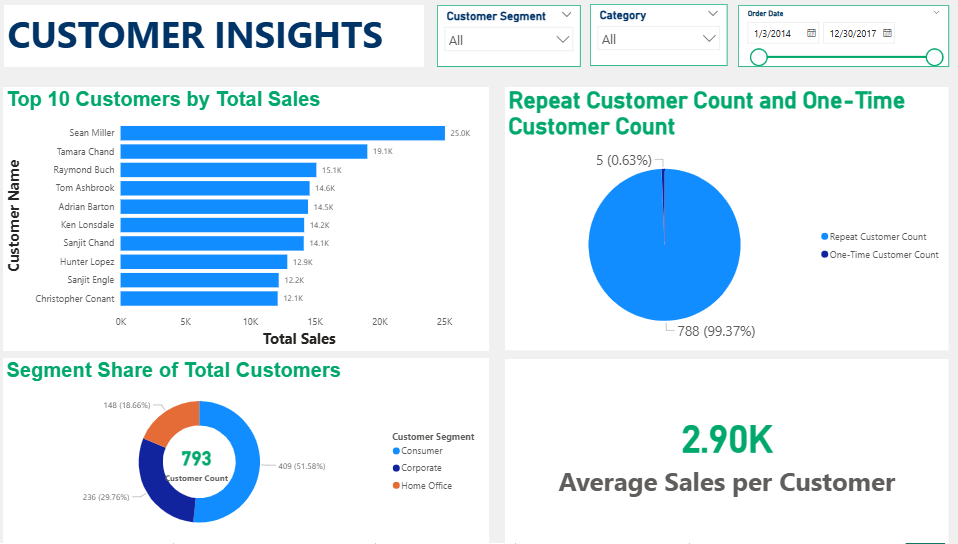

The dashboard page shown, as its layout file describes it:
{"tool":"powerbi","page":{"name":"Customer Insights","canvas":[1400,800],"ordinal":2},"visuals":[{"type":"textbox","box":[9.6,17.6,611.2,89.6],"z":0},{"type":"clusteredBarChart","title":"Top 10 Customers by Total Sales","fields":{"Category":["Customers.Customer Name"],"Y":["Orders.Total Sales"]},"box":[9.4,137,707.1,384.3],"z":1000},{"type":"donutChart","title":"Segment Share of Total Customers","fields":{"Category":["Customers.Customer Segment"],"Y":["Customers.Customer Count"]},"box":[9,531,707,269],"z":2000},{"type":"card","fields":{"Values":["Customers.Customer Count"]},"box":[234.6,647.2,111.8,70.9],"z":3000},{"type":"card","fields":{"Values":["Orders.Average Sales per Customer"]},"box":[739.1,531.8,645.3,267.9],"z":4000},{"type":"pieChart","fields":{"Y":["Customers.Repeat Customer Count","Customers.One-Time Customer Count"]},"box":[739.1,136.9,645.3,383.2],"z":5000},{"type":"slicer","fields":{"Values":["Customers.Customer Segment"]},"box":[639.5,17.3,209.3,90.3],"z":6000},{"type":"slicer","fields":{"Values":["Products.Category"]},"box":[862.3,15.4,199.7,90.3],"z":7000},{"type":"slicer","fields":{"Values":["Orders.Order Date"]},"box":[1077.4,17.3,307.3,90.3],"z":8000}]}

Visuals, with their boxes in screenshot pixels (x1, y1, x2, y2), scaled from the page's 1400x800 canvas onto the 958x544 screenshot:
textbox: <region>7, 12, 425, 73</region>
"Top 10 Customers by Total Sales" clusteredBarChart: <region>6, 93, 490, 354</region>
"Segment Share of Total Customers" donutChart: <region>6, 361, 490, 543</region>
card - Customers.Customer Count: <region>161, 440, 237, 488</region>
card - Orders.Average Sales per Customer: <region>506, 362, 947, 543</region>
pieChart - Customers.Repeat Customer Count x Customers.One-Time Customer Count: <region>506, 93, 947, 354</region>
slicer - Customers.Customer Segment: <region>438, 12, 581, 73</region>
slicer - Products.Category: <region>590, 10, 727, 72</region>
slicer - Orders.Order Date: <region>737, 12, 948, 73</region>
